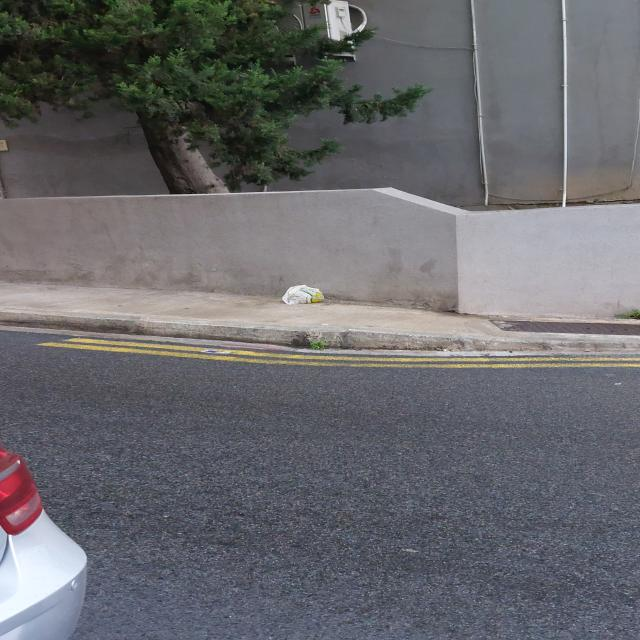Other: (273, 282, 338, 312)
